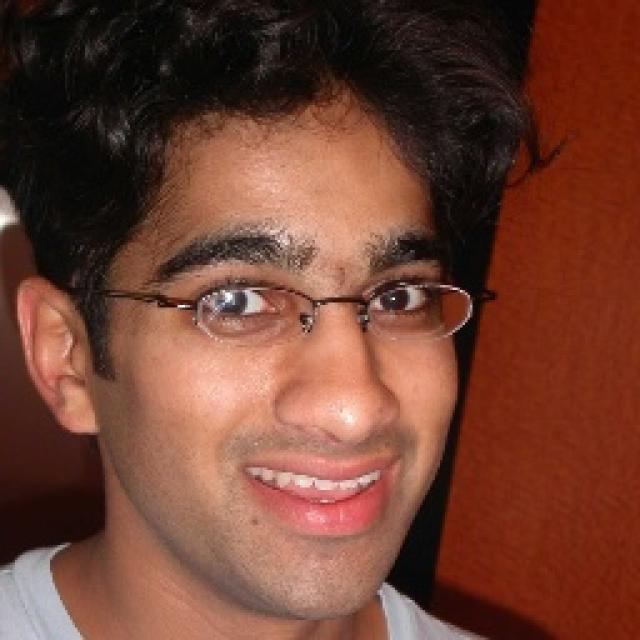earlobe: (52, 399, 98, 438)
eye: (366, 286, 438, 319), (204, 287, 272, 320)
nose: (269, 415, 395, 456)
wholeear: (19, 280, 96, 438)
